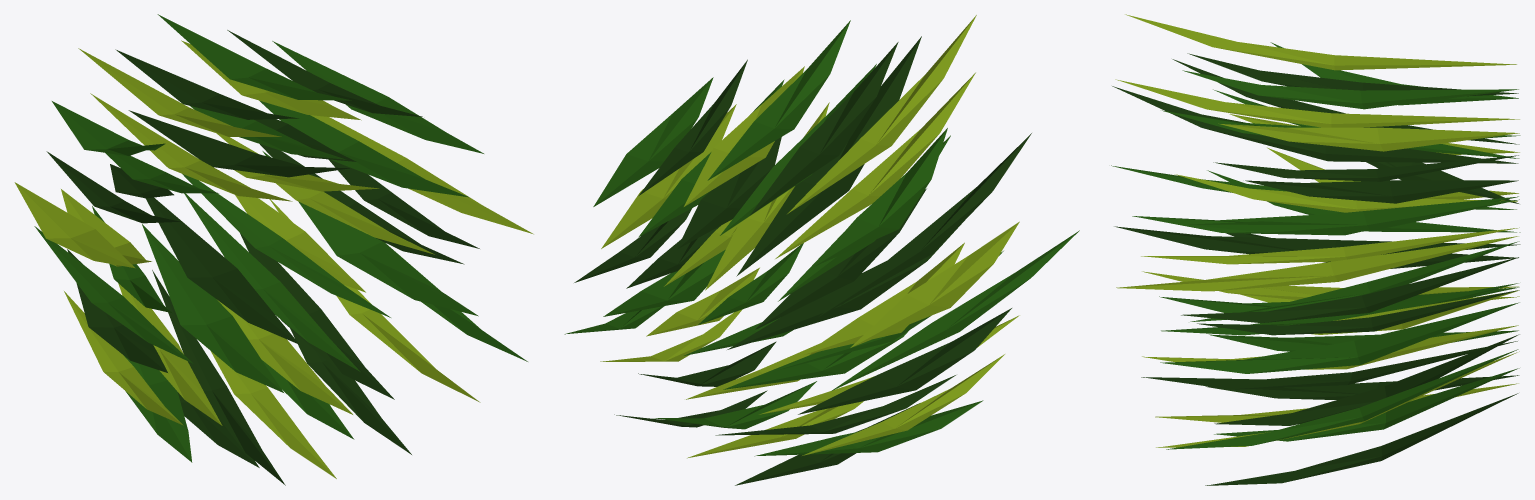
The model's file is EncounterGrass.obj.
The picture shows the model from 3 angles, left to right: view 1: azimuth 30°, elevation 25°; view 2: azimuth 150°, elevation 25°; view 3: azimuth 270°, elevation 25°; orthographic projection.
Parts seen in each view (by area): view 1: EncounterGrass; view 2: EncounterGrass; view 3: EncounterGrass.
Part boxes in pixels (<box>): EncounterGrass: <box>14,14,533,485</box>; EncounterGrass: <box>564,15,1079,485</box>; EncounterGrass: <box>1111,14,1520,485</box>.
Size of the model in its own units: 120 by 120 by 115.
